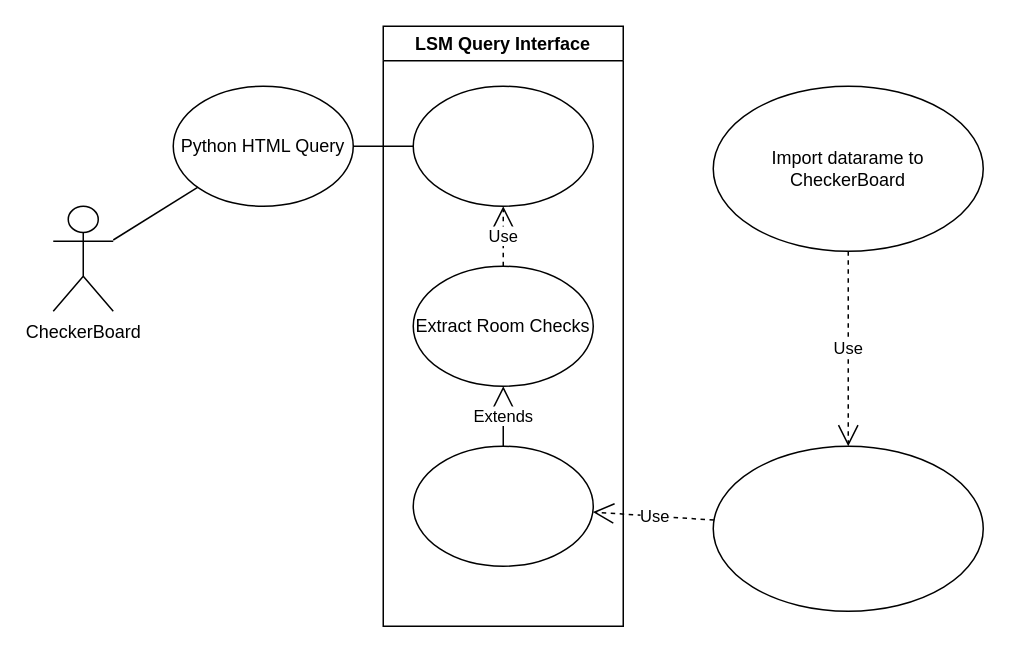
Image size: 1010x653. Some labels were removed from this diagram. Each missing label, with the centre of its shape:
"Export Extracted, Filtered HTML Data to dataframe" belongs at (847,528).
"Filter Data (Javascript/Python)" belongs at (502,505).
"Parse LSM Query" belongs at (502,145).
